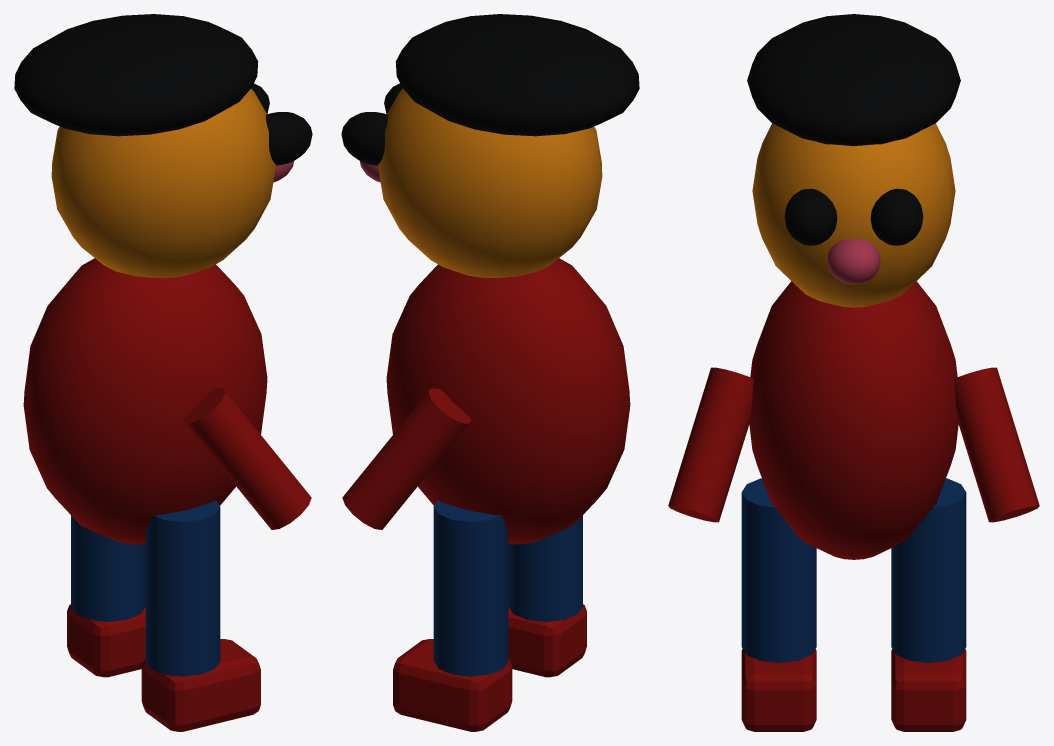
File: ToyDoll.fbx
3 renders of one model, left to right at view 1: azimuth 30°, elevation 25°; view 2: azimuth 150°, elevation 25°; view 3: azimuth 270°, elevation 25°, orthographic.
Visible parts, largest first — view 1: ToyDoll; view 2: ToyDoll; view 3: ToyDoll.
Boxes of the visible parts, x1=… form: ToyDoll: x1=14, y1=14, x2=312, y2=731; ToyDoll: x1=341, y1=14, x2=639, y2=731; ToyDoll: x1=668, y1=14, x2=1039, y2=731.
Size of the model in its own units: 28.8 by 34.76 by 68.
